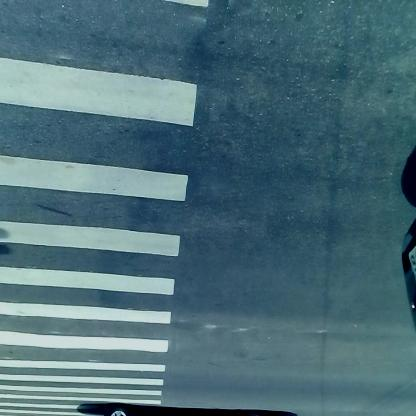crosswalk: (4, 9, 214, 411)
